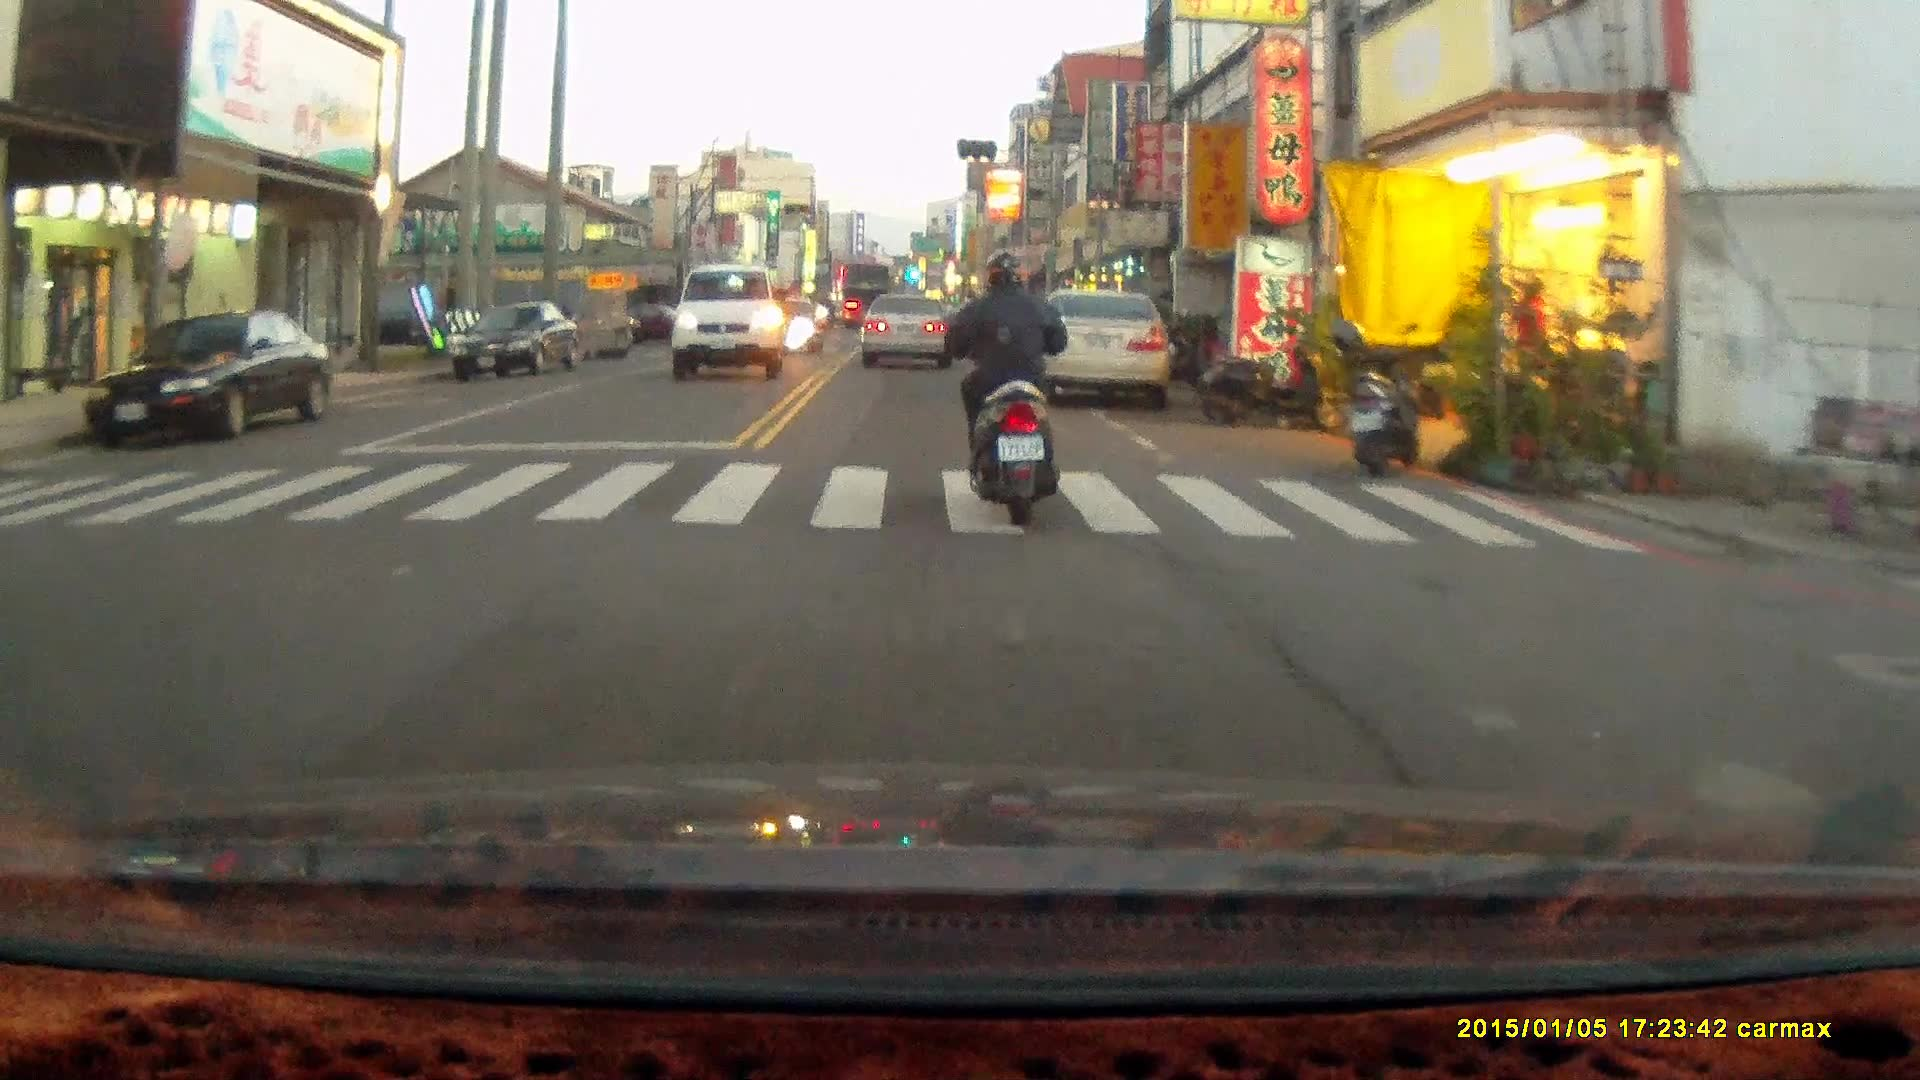pedestrian: (1514, 280, 1551, 406)
rider: (940, 246, 1068, 523)
vehicle: (81, 310, 332, 447), (1029, 287, 1174, 410), (670, 265, 789, 386), (452, 304, 577, 388), (858, 289, 955, 366)
